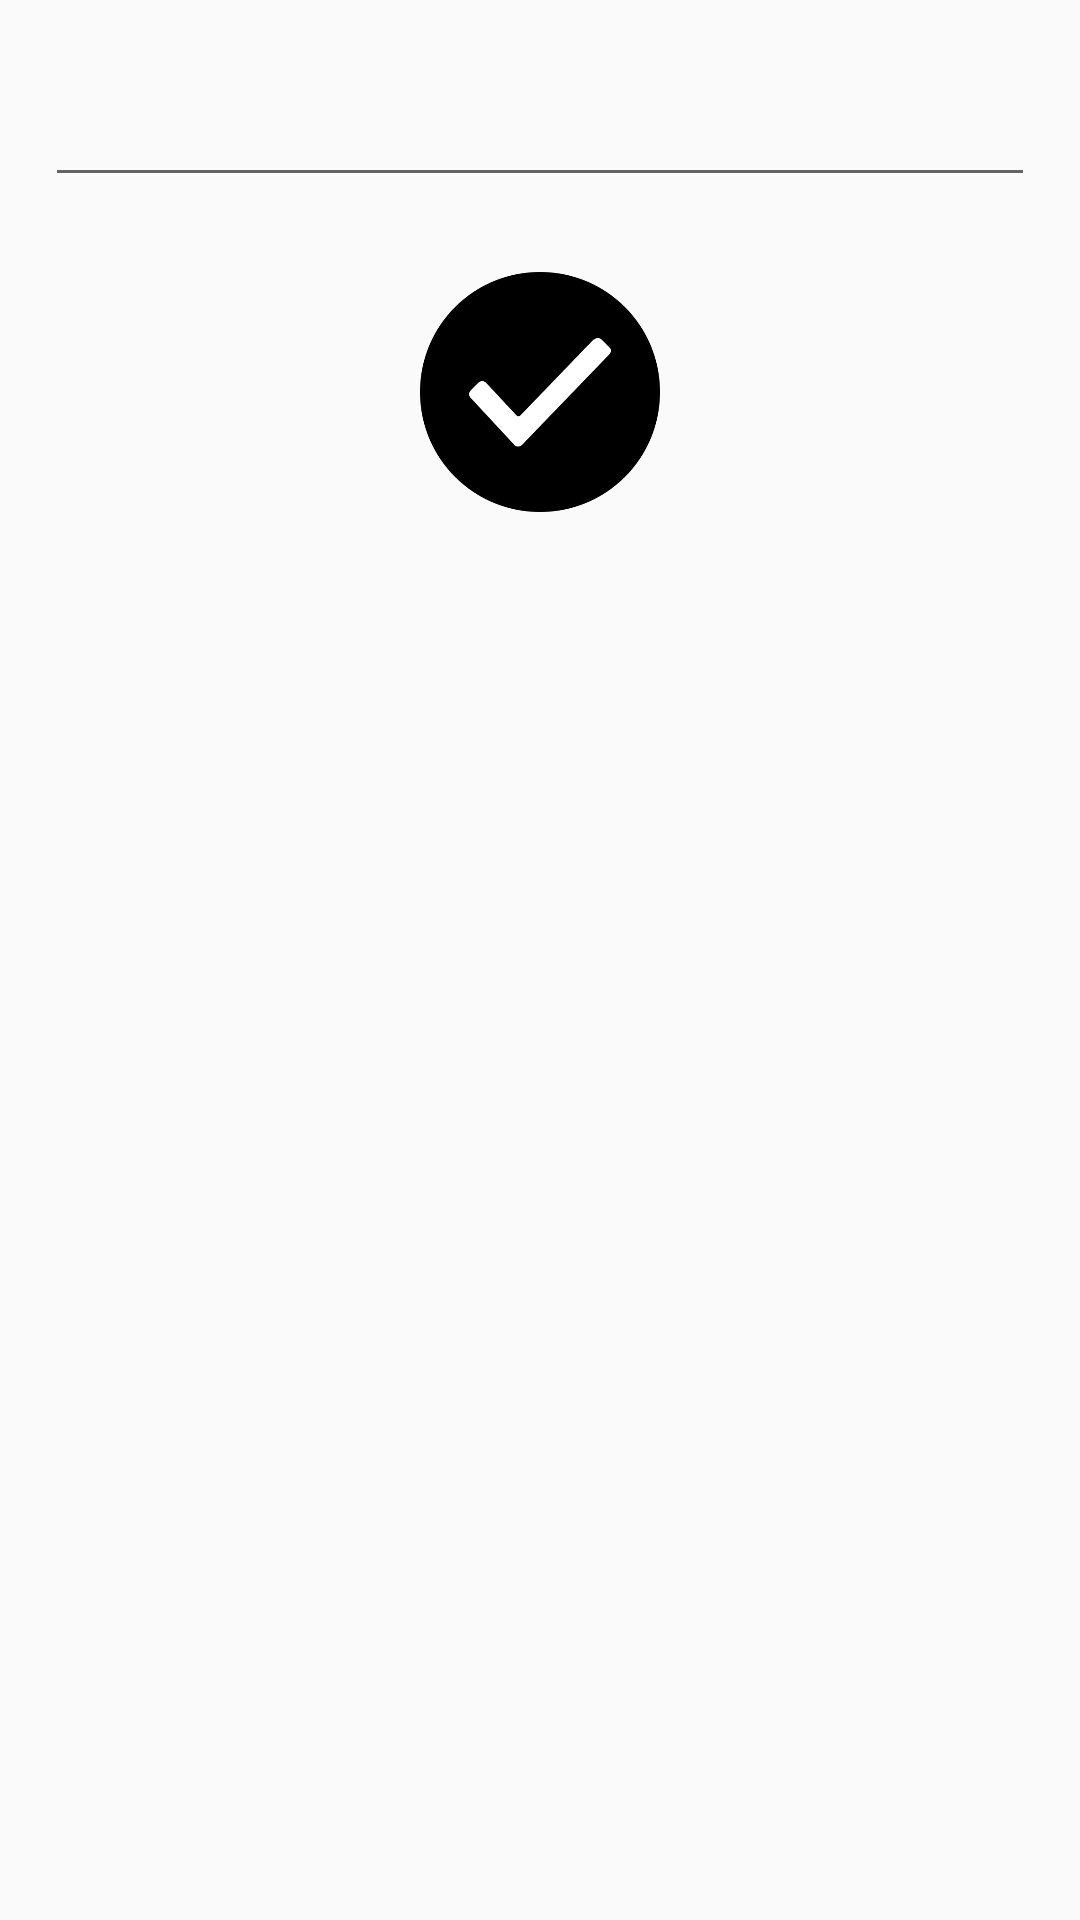

Point at icon controls on the screen. Image size 1080*1920, points as (x,y).
checked: (540,392)
